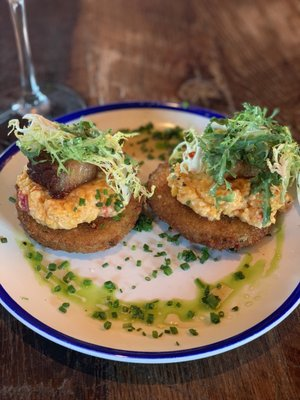soup: (129, 102, 300, 252), (12, 114, 145, 254)
